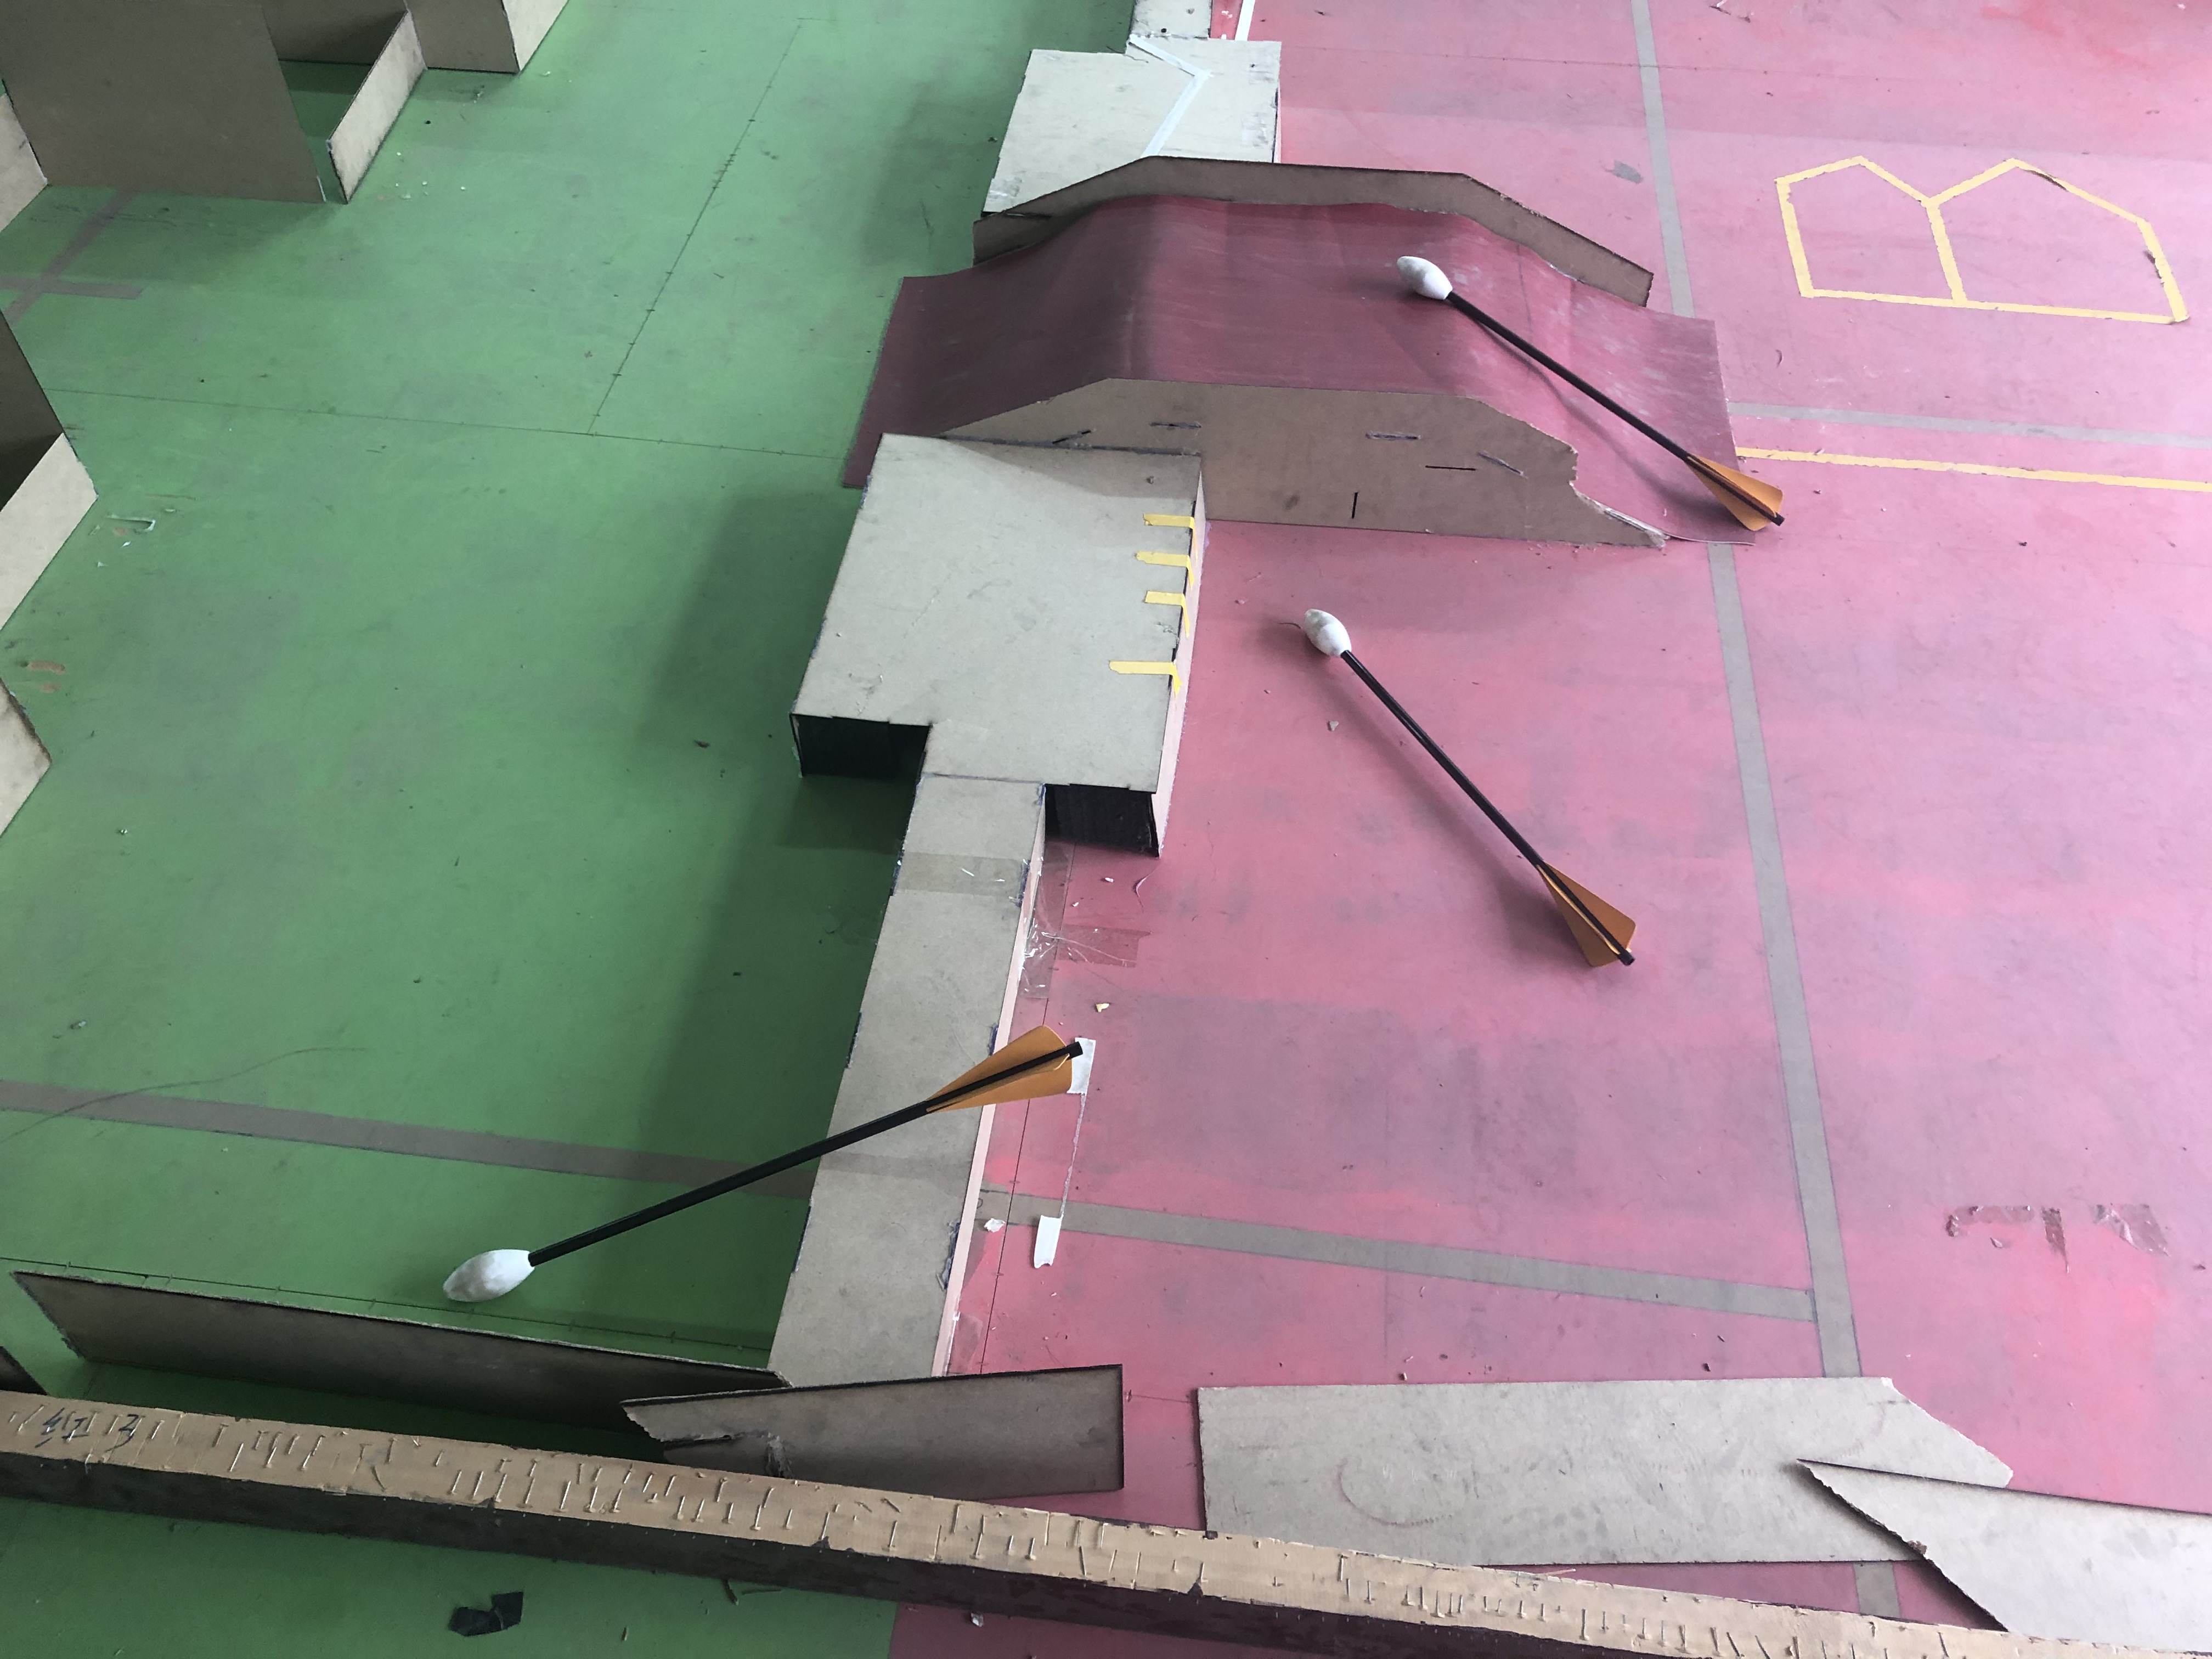arrow: (434, 1033, 1089, 1310), (1301, 605, 1639, 967), (1390, 246, 1794, 530)
arrowFront: (441, 1248, 535, 1307), (1298, 606, 1357, 659), (1393, 251, 1456, 296)
